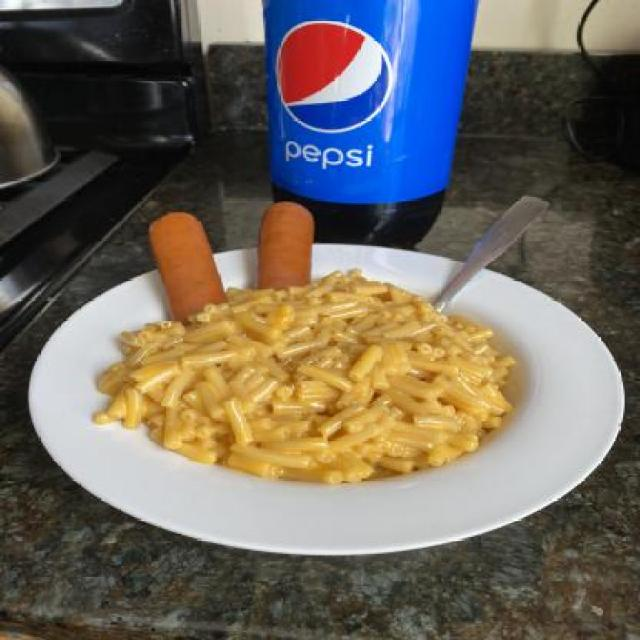hot dog: (131, 190, 332, 318)
macaroni and cheese: (100, 273, 523, 485)
